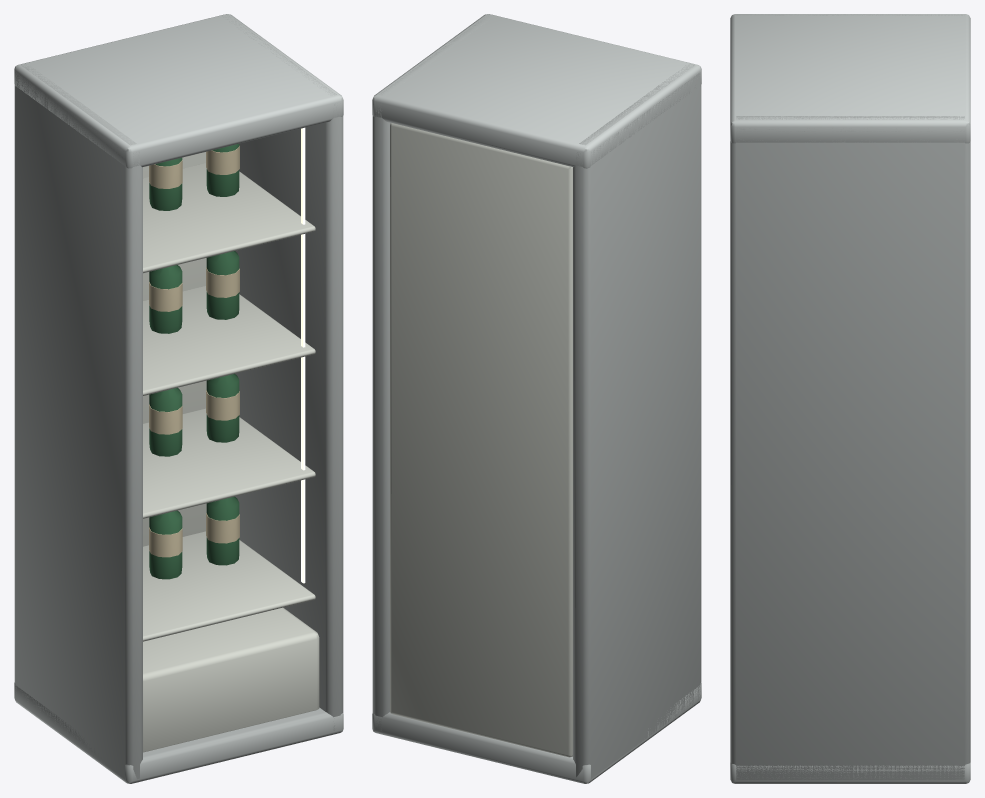
Rendered from glass-fridge-lod1.glb.
3 views of the same model, side by side, from view 1: azimuth 30°, elevation 25°; view 2: azimuth 150°, elevation 25°; view 3: azimuth 270°, elevation 25° (orthographic). The views are drawn at different scales.
Parts seen in each view (by area): view 1: glass-fridge.lod1__furniture polished nickel, glass-fridge.lod1__fridge ivory interior, glass-fridge.lod1__fridge bottle green, glass-fridge.lod1__fridge label cream, glass-fridge.lod1__fridge warm light; view 2: glass-fridge.lod1__furniture polished nickel, glass-fridge.lod1__fridge ivory interior; view 3: glass-fridge.lod1__furniture polished nickel.
Boxes of the visible parts, x1=… form: glass-fridge.lod1__furniture polished nickel: x1=14, y1=14, x2=343, y2=783; glass-fridge.lod1__fridge ivory interior: x1=143, y1=152, x2=319, y2=752; glass-fridge.lod1__fridge bottle green: x1=149, y1=144, x2=239, y2=579; glass-fridge.lod1__fridge label cream: x1=149, y1=146, x2=239, y2=557; glass-fridge.lod1__fridge warm light: x1=301, y1=127, x2=305, y2=583; glass-fridge.lod1__furniture polished nickel: x1=372, y1=14, x2=701, y2=783; glass-fridge.lod1__fridge ivory interior: x1=390, y1=123, x2=572, y2=757; glass-fridge.lod1__furniture polished nickel: x1=730, y1=14, x2=970, y2=783.
Size of what is drawn, in the model's own units: 0.7601 by 2.13 by 0.7.
